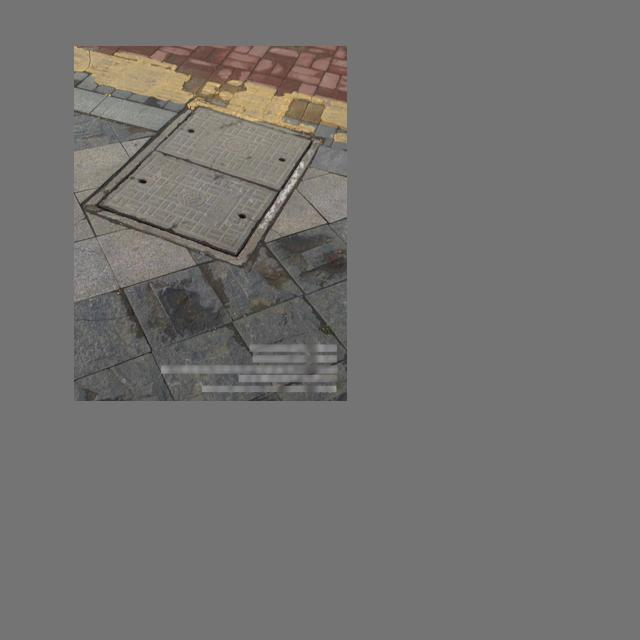good: (80, 100, 323, 267)
